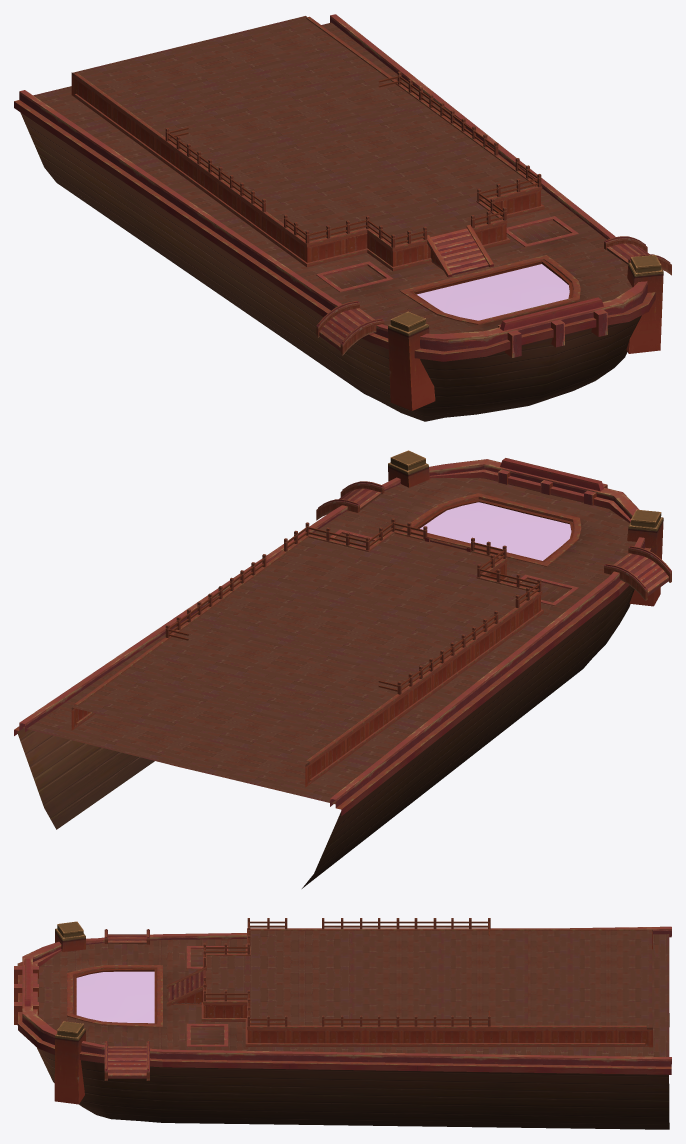
The model's file is ZYbui_CLF_chuan01.FBX.
The picture shows the model from 3 angles, top to bottom: view 1: azimuth 30°, elevation 25°; view 2: azimuth 150°, elevation 25°; view 3: azimuth 270°, elevation 25°; orthographic projection. The views are drawn at different scales.
Parts seen in each view (by area): view 1: ZYbui_CLF_chuan01, ZYbui_CLF_chuan02; view 2: ZYbui_CLF_chuan01, ZYbui_CLF_chuan02; view 3: ZYbui_CLF_chuan01, ZYbui_CLF_chuan02.
Part boxes in pixels (bbox=[...]): ZYbui_CLF_chuan01: bbox=[14, 14, 671, 421]; ZYbui_CLF_chuan02: bbox=[417, 264, 569, 320]; ZYbui_CLF_chuan01: bbox=[14, 450, 671, 888]; ZYbui_CLF_chuan02: bbox=[420, 502, 571, 560]; ZYbui_CLF_chuan01: bbox=[14, 918, 671, 1129]; ZYbui_CLF_chuan02: bbox=[76, 971, 154, 1023].
Size of the model in its own units: 2622 by 983 by 5276.
